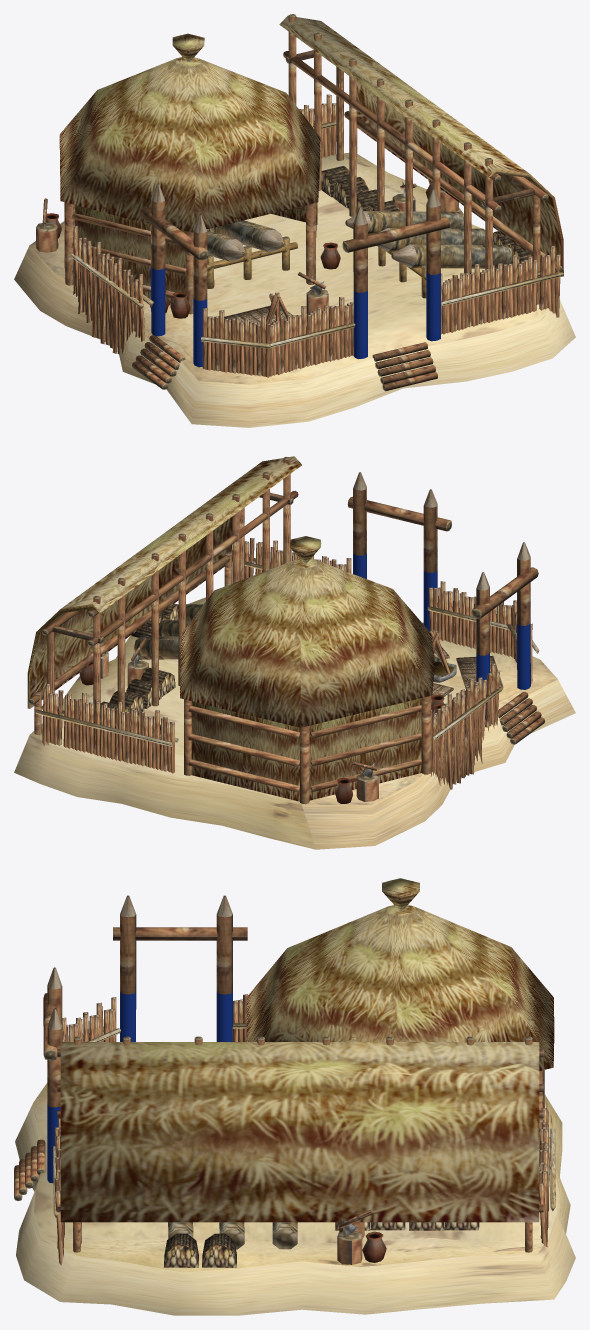
Rendered from arsenal.dae.
3 renders of one model, top to bottom at view 1: azimuth 30°, elevation 25°; view 2: azimuth 150°, elevation 25°; view 3: azimuth 270°, elevation 25°, orthographic. The views are drawn at different scales.
Parts seen in each view (by area): view 1: arsenal; view 2: arsenal; view 3: arsenal.
Boxes of the visible parts, left/top/right/bottom form: arsenal: left=14, top=14, right=575, bottom=427; arsenal: left=14, top=456, right=575, bottom=849; arsenal: left=14, top=878, right=575, bottom=1315.
Size of the model in its own units: 25.96 by 27.43 by 15.15.
